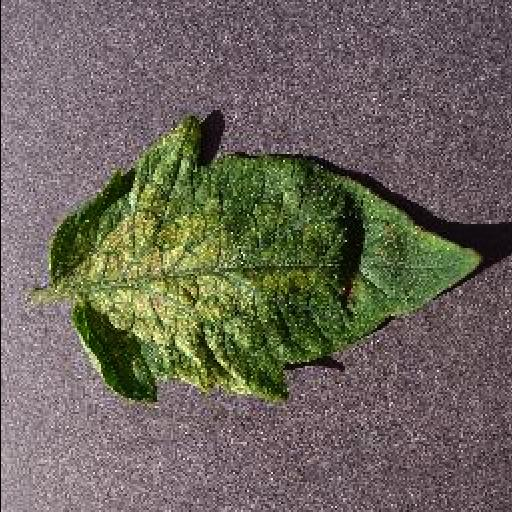disease_tomato: (51, 118, 485, 408)
